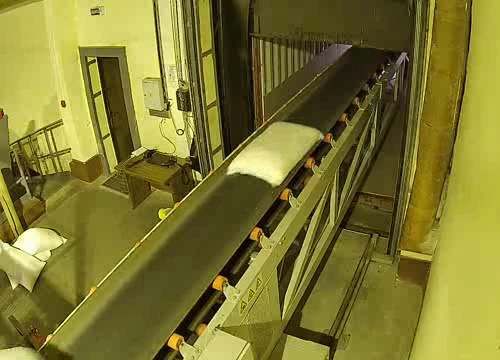bag: (224, 120, 330, 192), (0, 342, 53, 360)
